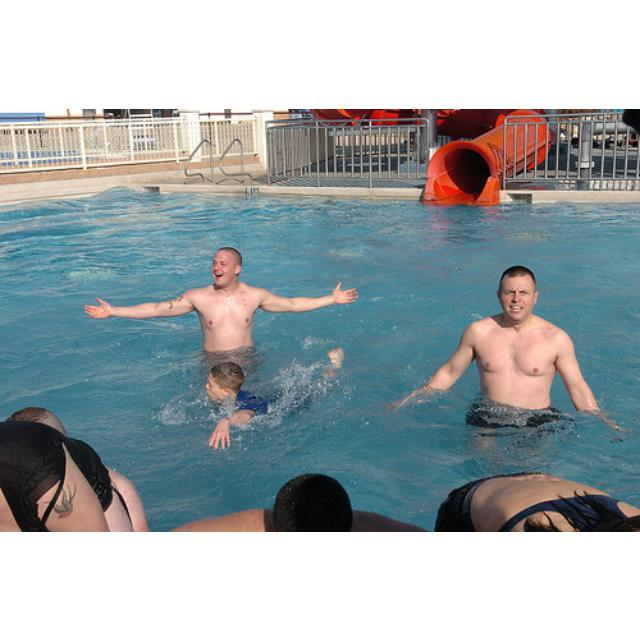human: (408, 265, 621, 431), (80, 246, 359, 356), (198, 360, 313, 448)
